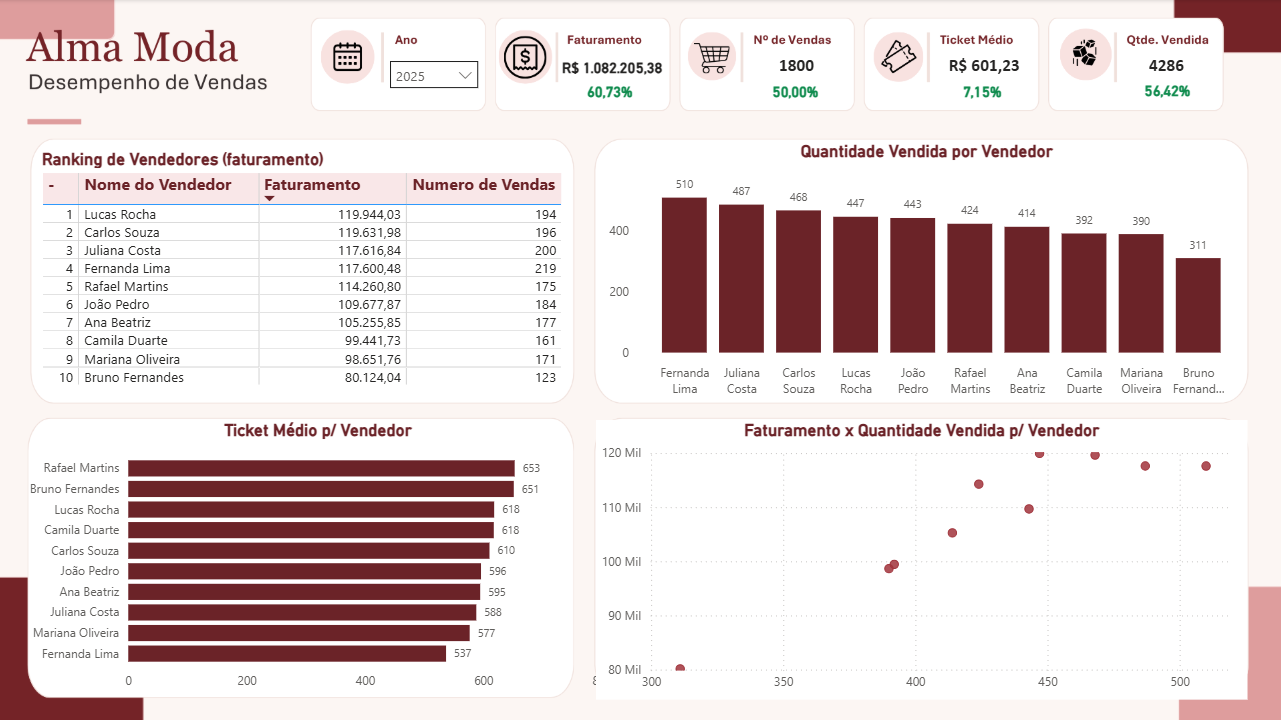

Layout of this report page (visuals, bound fields, positions):
{"tool":"powerbi","page":{"name":"Vendedores e Desempenho","canvas":[1280,720],"ordinal":2},"visuals":[{"type":"card","fields":{"Values":["Medidas.Quantidade Vendida"]},"box":[1110.7,41.3,108.9,53.4],"z":0},{"type":"card","fields":{"Values":["Medidas.Numero de Vendas"]},"box":[740.8,41.3,108.9,53.4],"z":1000},{"type":"multiRowCard","fields":{"Values":["Medidas.Faturamento"]},"box":[557.1,55.6,117.8,39.3],"z":2000},{"type":"card","fields":{"Values":["Medidas.Ticket Medio"]},"box":[903.1,41.3,160.3,53.4],"z":3000},{"type":"slicer","fields":{"Values":["dData.Ano"]},"box":[380.3,51.4,107.9,42.4],"z":4000},{"type":"multiRowCard","fields":{"Values":["Medidas.Crescimento Faturamento %"]},"box":[581.5,79.6,72.6,35.3],"z":5000},{"type":"multiRowCard","fields":{"Values":["Medidas.Crescimento Ticket Médio %"]},"box":[956.5,79.6,72.6,35.3],"z":6000},{"type":"multiRowCard","fields":{"Values":["Medidas.Crescimento Quantidade %"]},"box":[1136.9,78.6,72.6,35.3],"z":7000},{"type":"multiRowCard","fields":{"Values":["Medidas.Crescimento Vendas %"]},"box":[766.5,79.6,73,34.9],"z":8000},{"type":"tableEx","title":"Ranking de Vendedores (faturamento)","fields":{"Values":["Medidas.Ranking Vendedor","dVendedores.Nome do Vendedor","Medidas.Faturamento","Medidas.Numero de Vendas"]},"box":[38.2,150.1,534.4,264.7],"z":9000},{"type":"barChart","title":"Ticket Médio p/ Vendedor","fields":{"Category":["dVendedores.Nome do Vendedor"],"Y":["Medidas.Ticket Medio"]},"box":[17.8,419.9,600.6,278.6],"z":10000},{"type":"columnChart","title":"Quantidade Vendida por Vendedor","fields":{"Category":["dVendedores.Nome do Vendedor"],"Y":["Medidas.Qtde Vendida"]},"box":[603.1,141.2,643.8,262.1],"z":11000},{"type":"scatterChart","title":"Faturamento x Quantidade  Vendida p/ Vendedor","fields":{"X":["Medidas.Qtde Vendida"],"Y":["Medidas.Faturamento"],"Category":["dVendedores.Nome do Vendedor"]},"box":[596,420,650,279],"z":12000}]}

Visuals, with their boxes in screenshot pixels (x1, y1, x2, y2), scaled from the page's 1280x720 canvas onto the 1281x720 screenshot:
card - Medidas.Quantidade Vendida: 1112,41,1221,95
card - Medidas.Numero de Vendas: 741,41,850,95
multiRowCard - Medidas.Faturamento: 558,56,675,95
card - Medidas.Ticket Medio: 904,41,1064,95
slicer - dData.Ano: 381,51,489,94
multiRowCard - Medidas.Crescimento Faturamento %: 582,80,655,115
multiRowCard - Medidas.Crescimento Ticket Médio %: 957,80,1030,115
multiRowCard - Medidas.Crescimento Quantidade %: 1138,79,1210,114
multiRowCard - Medidas.Crescimento Vendas %: 767,80,840,114
"Ranking de Vendedores (faturamento)" tableEx: 38,150,573,415
"Ticket Médio p/ Vendedor" barChart: 18,420,619,698
"Quantidade Vendida por Vendedor" columnChart: 604,141,1248,403
"Faturamento x Quantidade  Vendida p/ Vendedor" scatterChart: 596,420,1247,699
